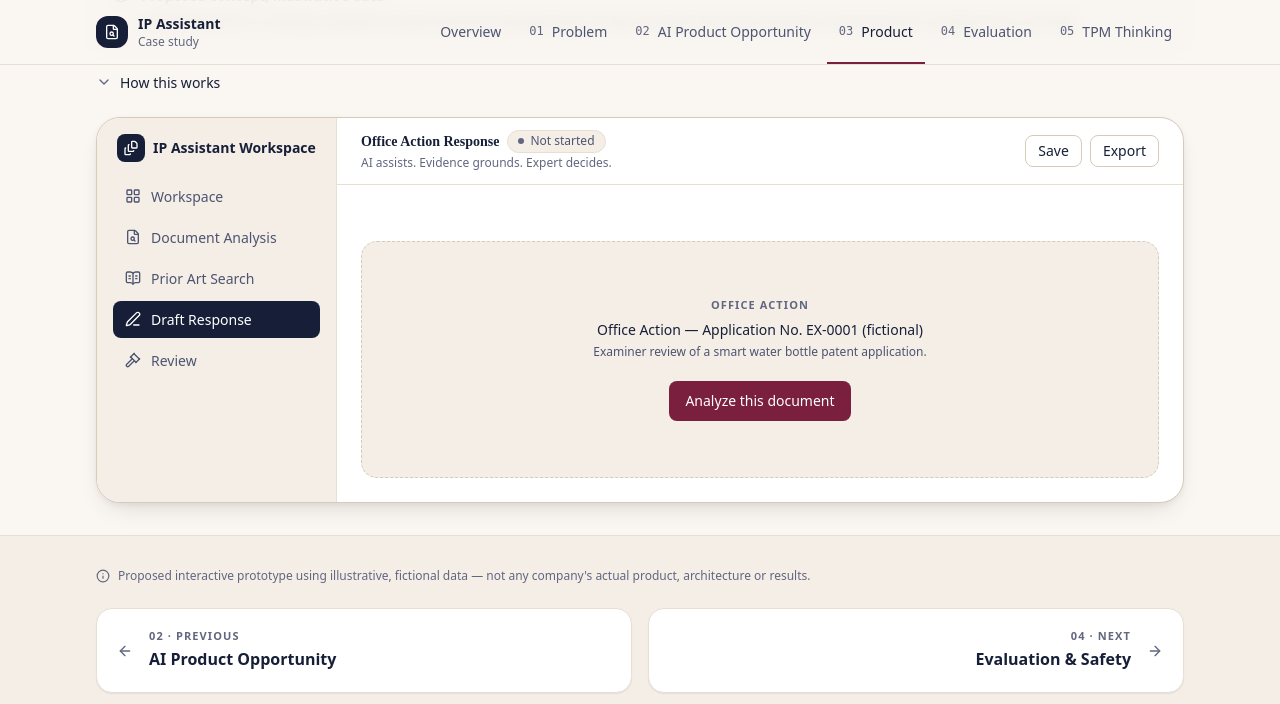
Test: Prototype page › lets the expert edit a section, then approve with edits applied
(page scrolled)
Click the button "Analyze this document".
click(760, 400)  # box [669,380,850,420]
Wait 3900 ms
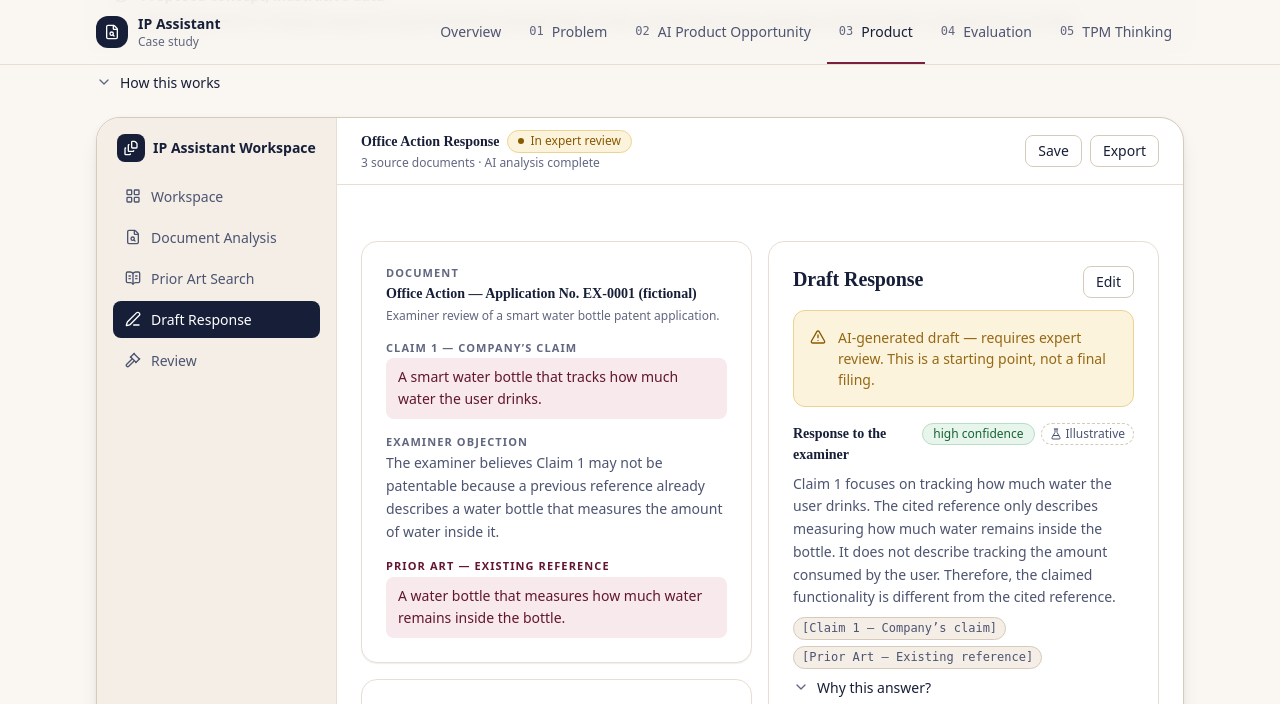
Click the button "Edit".
click(1108, 282)  # box [1083,266,1134,298]
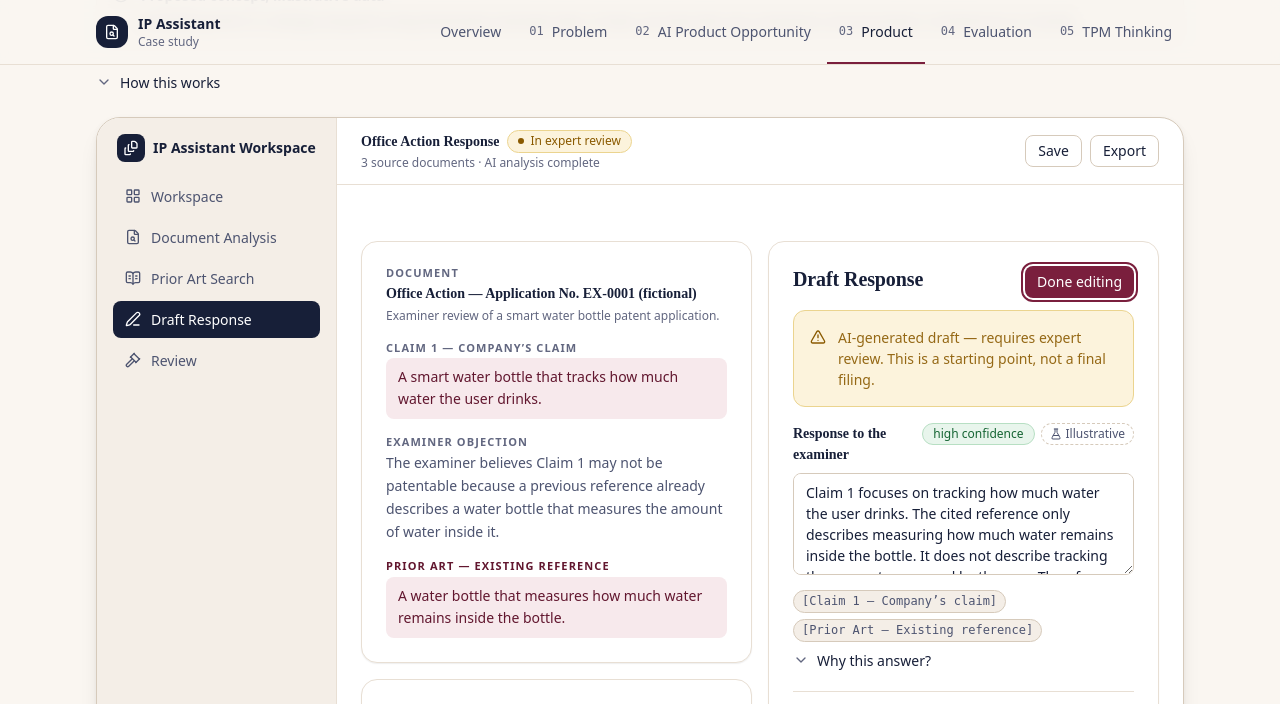
Replace the text in the text box named "Response to the examiner" with "Expert-rewritten response text." at (964, 524), box [793,473,1134,575]
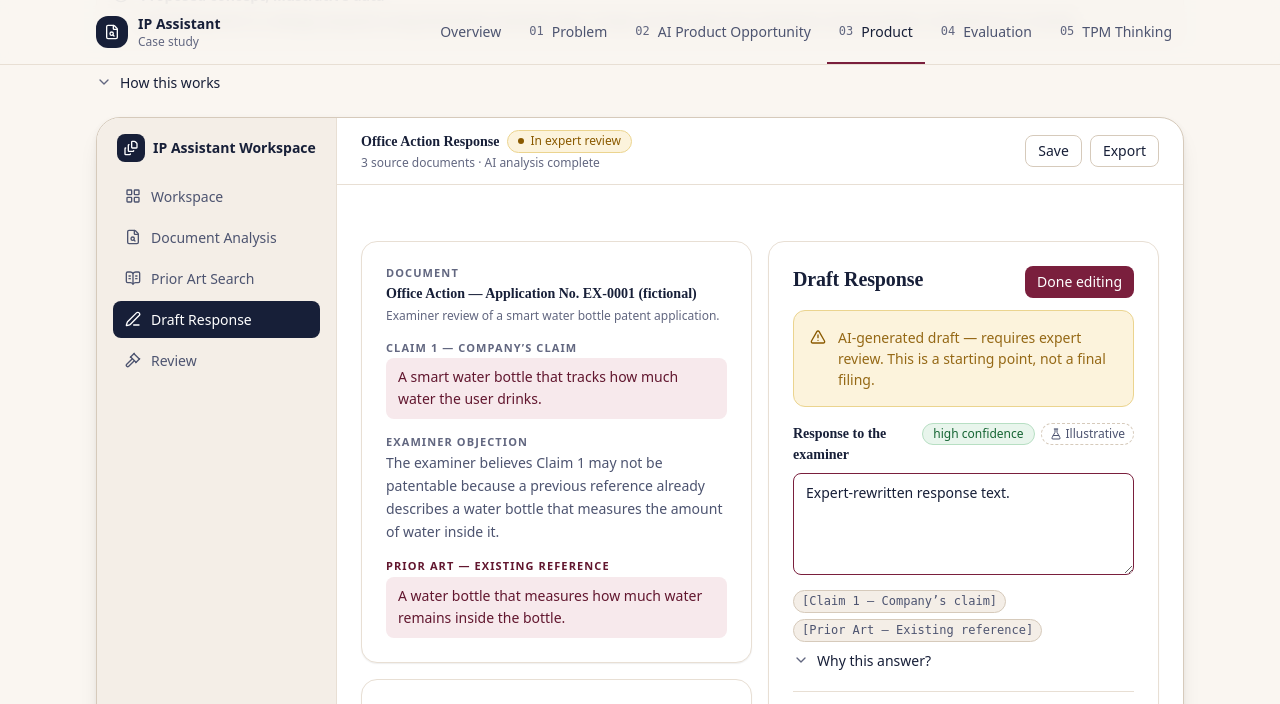
Click the button "Done editing".
click(1080, 282)  # box [1025,266,1134,298]
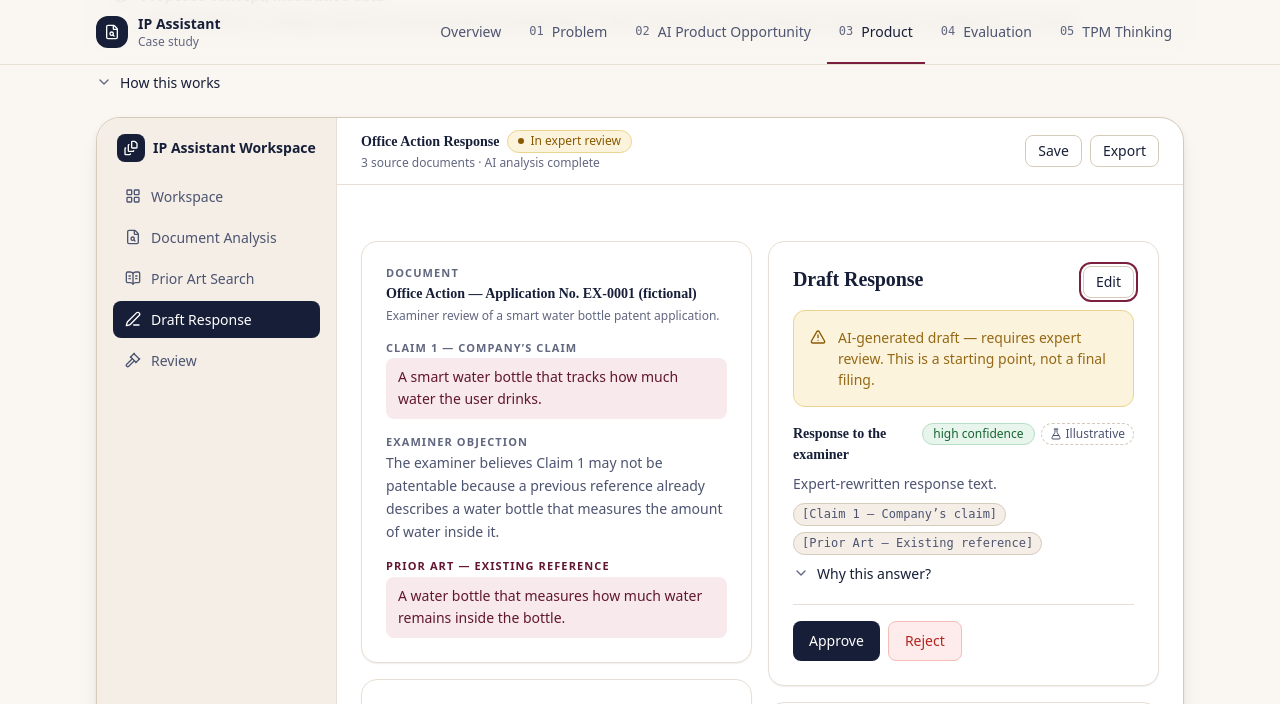
Click the button "Approve".
click(836, 641)  # box [793,621,880,661]
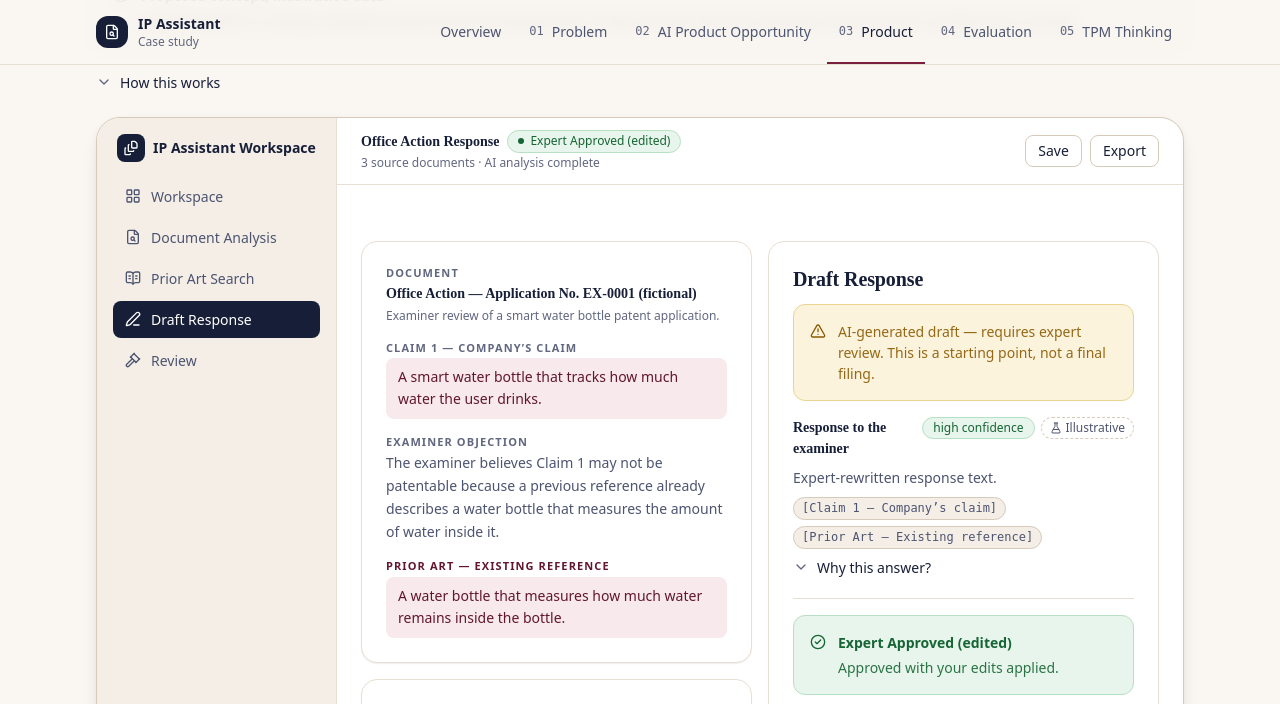
Expected: the text "Approved with your edits applied." is shown, [838,657,1059,678]
